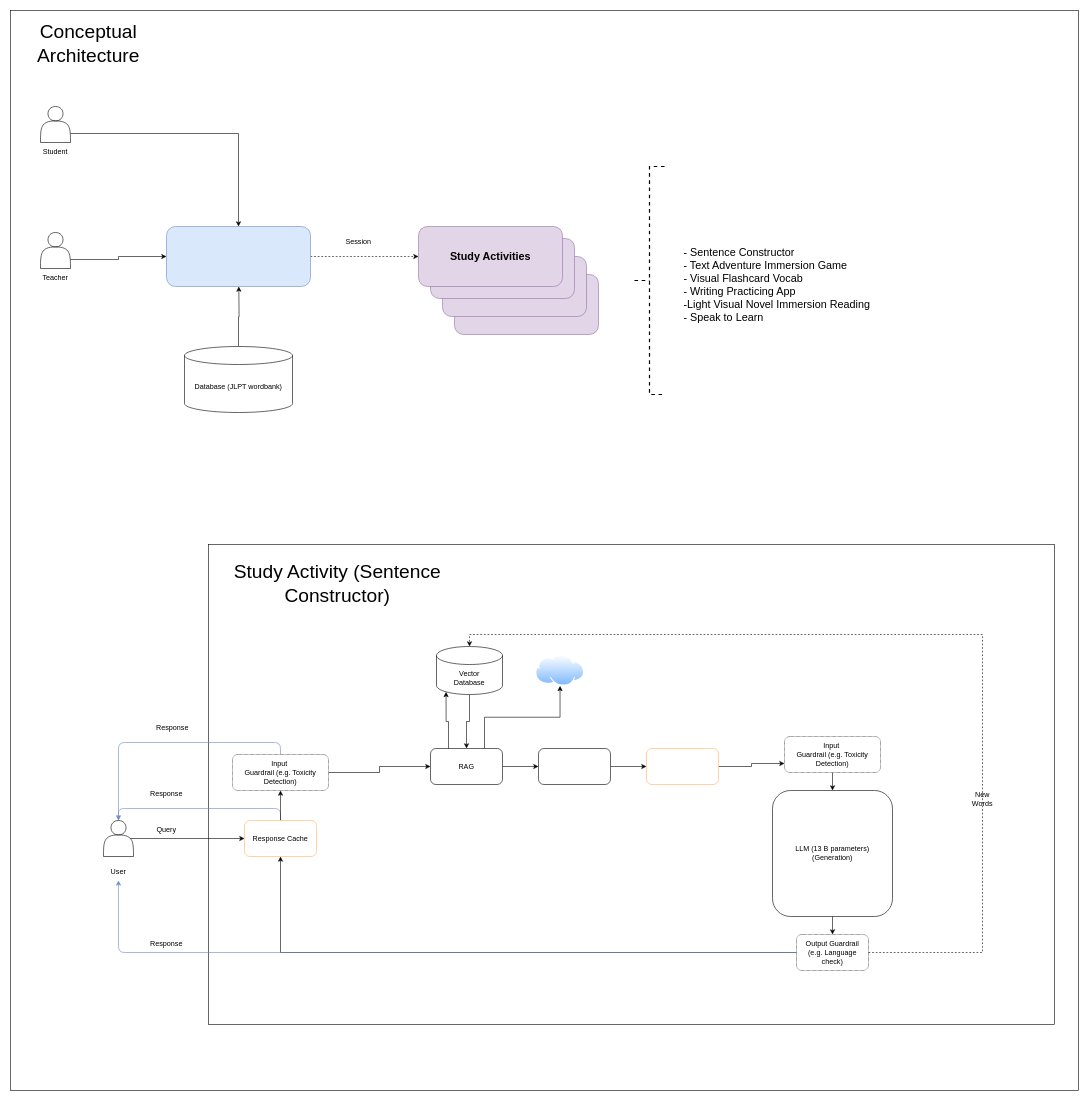
Image size: 1089x1101. Some labels were removed from this diagram. The centre of each missing label's shape, as x and y in pixels:
"Agent" belongs at point (574, 766).
"Internet" belongs at point (559, 670).
"Lang portal" belongs at point (238, 256).
"Prompt Cache" belongs at point (682, 766).
